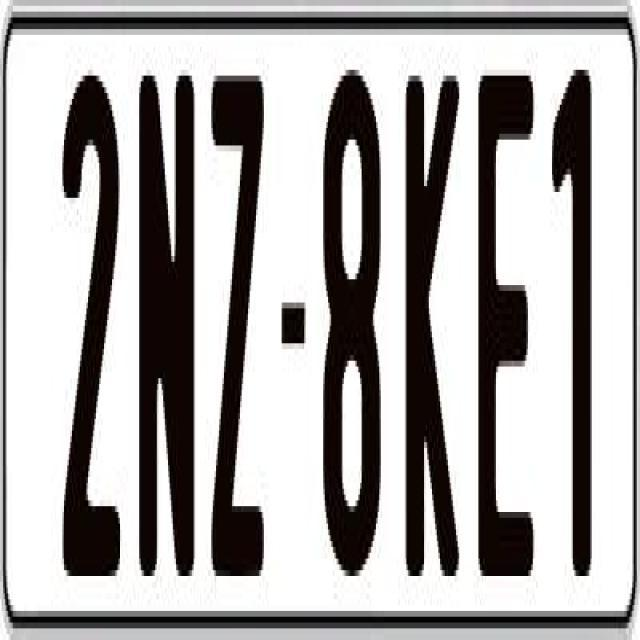1: (549, 64, 597, 594)
2: (60, 70, 121, 600)
8: (318, 70, 378, 606)
E: (475, 64, 536, 588)
K: (404, 64, 466, 576)
N: (137, 70, 200, 600)
Z: (211, 70, 266, 606)
